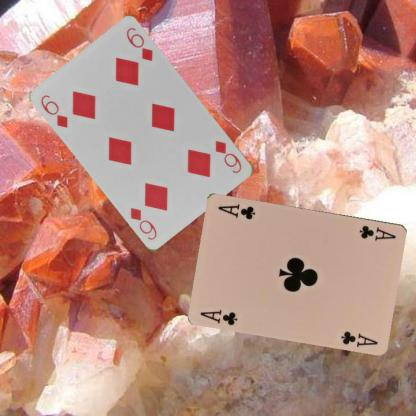6d: (38, 92, 70, 129), (213, 138, 243, 175)
Ac: (356, 223, 398, 242), (198, 307, 239, 326)
